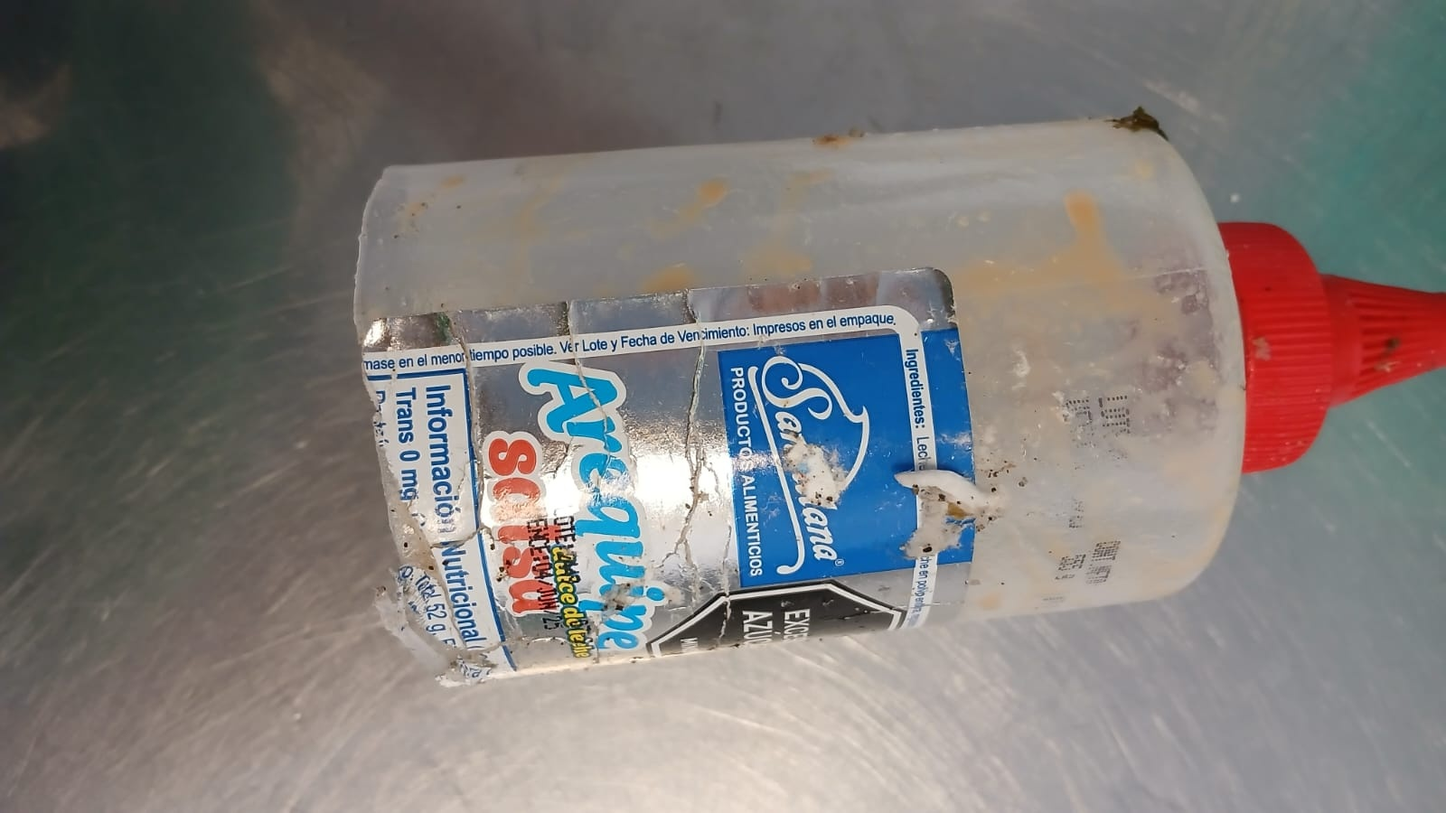Plastico: (354, 113, 1446, 690)
